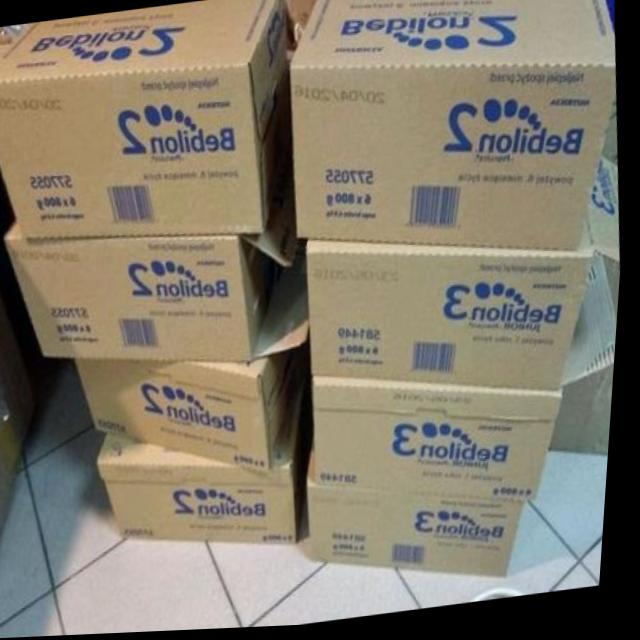box: (291, 0, 617, 255), (317, 258, 621, 505), (309, 159, 622, 395), (0, 0, 295, 240), (6, 159, 313, 361), (103, 370, 312, 544), (312, 437, 533, 580), (79, 346, 312, 474), (0, 281, 43, 559)
